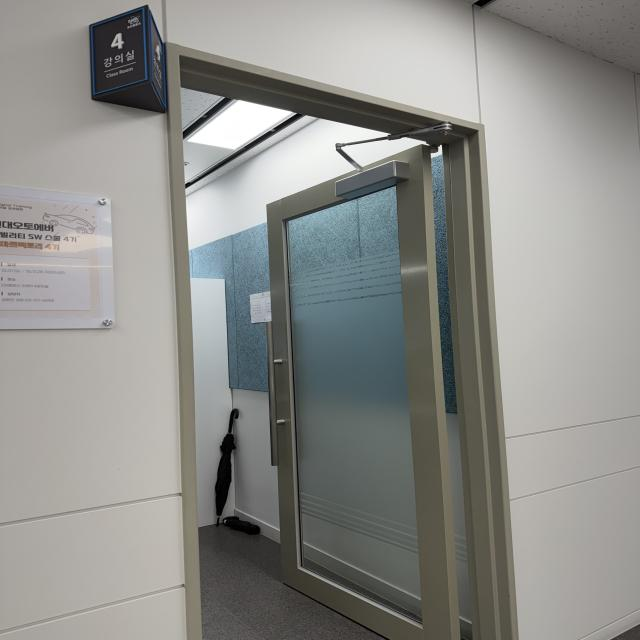sign: (92, 16, 145, 92)
